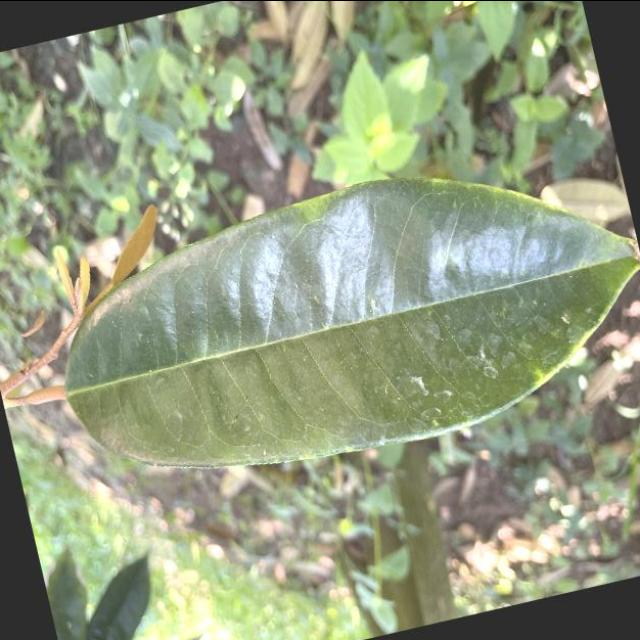No Disease: (18, 116, 640, 534)
